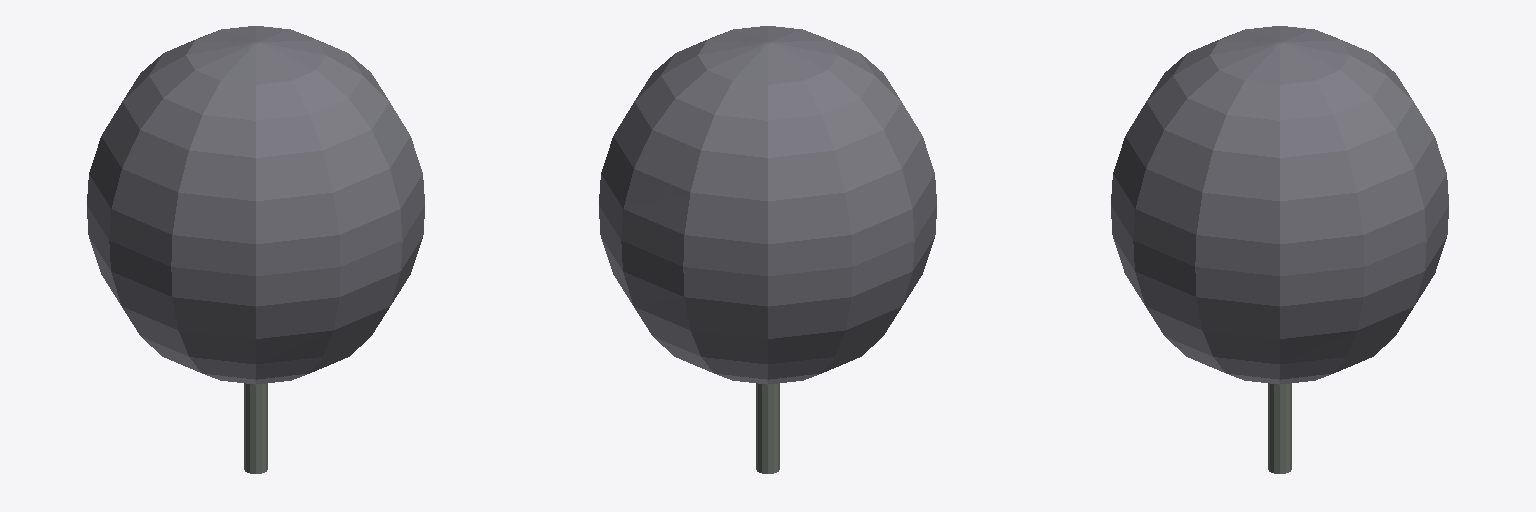
File: European_Beech_Analytical_0.obj
3 views of the same model, side by side, from view 1: azimuth 30°, elevation 25°; view 2: azimuth 150°, elevation 25°; view 3: azimuth 270°, elevation 25° (orthographic).
Visible parts, largest first — view 1: AnalyticalCrown, AnalyticalTrunk; view 2: AnalyticalCrown, AnalyticalTrunk; view 3: AnalyticalCrown, AnalyticalTrunk.
Part boxes in pixels (left/top/right/bottom): AnalyticalCrown: left=87, top=26, right=424, bottom=384; AnalyticalTrunk: left=244, top=383, right=267, bottom=473; AnalyticalCrown: left=599, top=26, right=936, bottom=384; AnalyticalTrunk: left=756, top=383, right=779, bottom=473; AnalyticalCrown: left=1111, top=26, right=1448, bottom=384; AnalyticalTrunk: left=1268, top=383, right=1291, bottom=473.
Size of the model in its own units: 9 by 12.5 by 9.